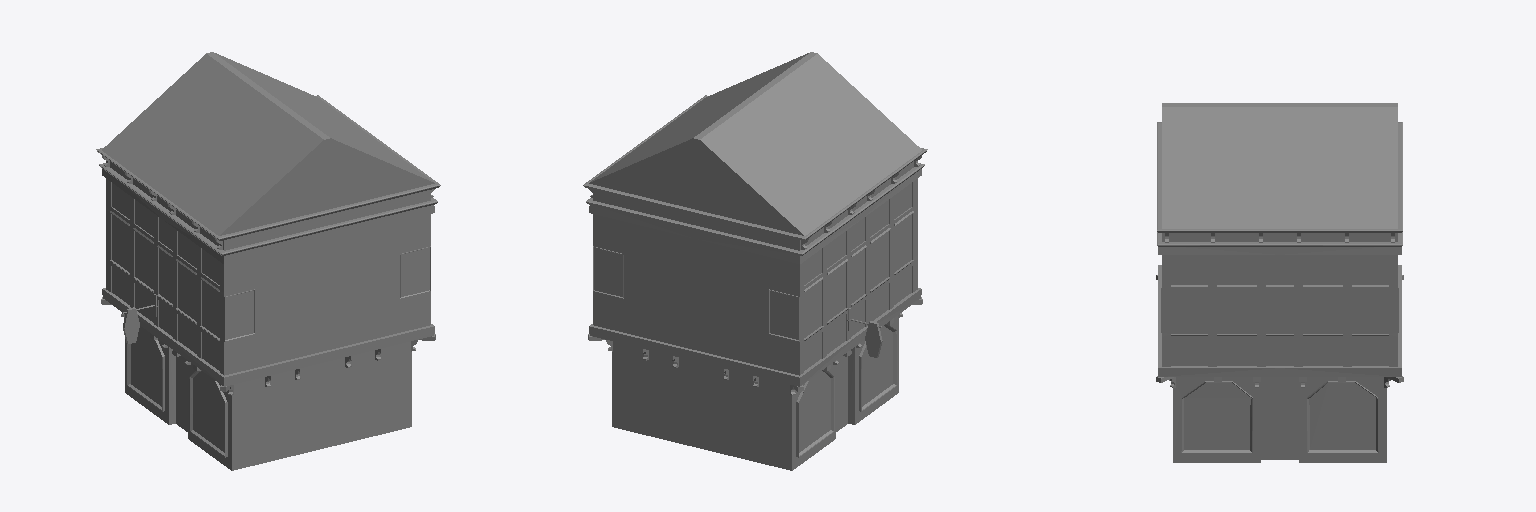
Rendered from house21.obj.
The picture shows the model from 3 angles: view 1: azimuth 30°, elevation 25°; view 2: azimuth 150°, elevation 25°; view 3: azimuth 270°, elevation 25°; orthographic projection.
Parts seen in each view (by area): view 1: City_building_035.001; view 2: City_building_035.001; view 3: City_building_035.001.
Boxes of the visible parts, x1=… form: City_building_035.001: x1=96, y1=52, x2=440, y2=470; City_building_035.001: x1=583, y1=52, x2=927, y2=470; City_building_035.001: x1=1156, y1=103, x2=1403, y2=462.
Size of the model in its own units: 1.62 by 1.97 by 1.41.